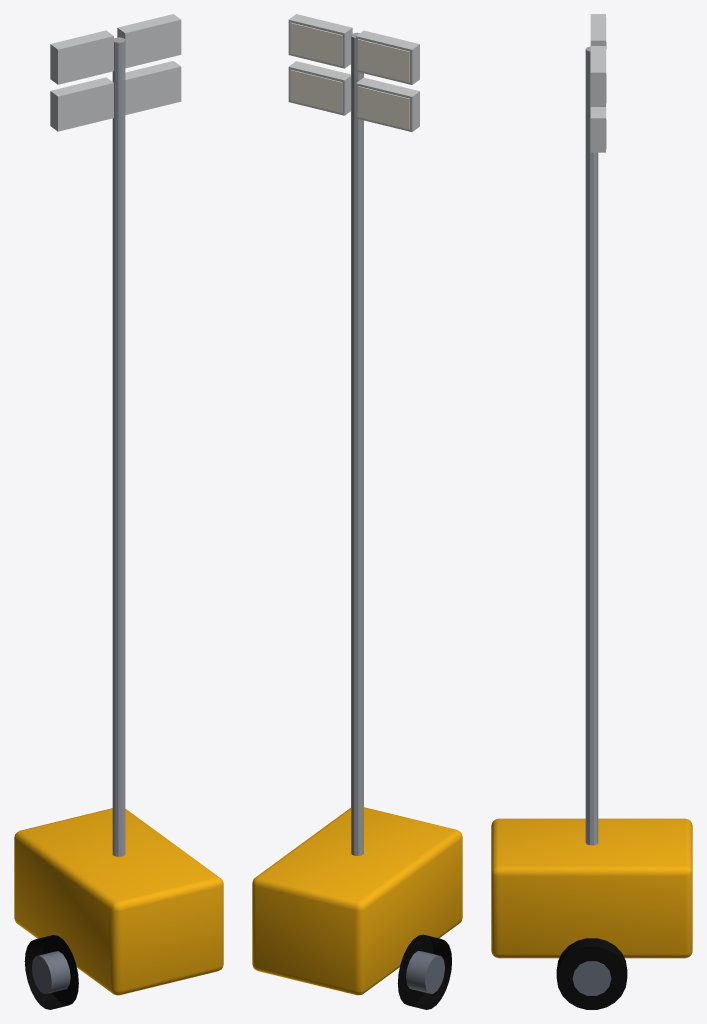
The model's file is plant.small.lighting_tower.glb.
3 views of the same model, side by side, from view 1: azimuth 30°, elevation 25°; view 2: azimuth 150°, elevation 25°; view 3: azimuth 270°, elevation 25° (orthographic). The views are drawn at different scales.
Parts seen in each view (by area): view 1: main__plant_yellow, main__steel_galvanised, main__aluminium, main__rubber, main__steel_painted; view 2: main__plant_yellow, main__steel_galvanised, main__light_emitter, main__aluminium, main__rubber, main__steel_painted; view 3: main__plant_yellow, main__steel_galvanised, main__rubber, main__aluminium, main__steel_painted.
Boxes of the visible parts, x1,y1,x2,y2 form: main__plant_yellow: (14, 808, 223, 995); main__steel_galvanised: (112, 37, 125, 856); main__aluminium: (50, 14, 181, 131); main__rubber: (24, 935, 78, 1009); main__steel_painted: (32, 951, 70, 993); main__plant_yellow: (252, 807, 462, 995); main__steel_galvanised: (351, 32, 363, 855); main__light_emitter: (290, 22, 409, 129); main__aluminium: (288, 14, 419, 131); main__rubber: (397, 934, 451, 1009); main__steel_painted: (406, 951, 444, 993); main__plant_yellow: (491, 818, 692, 958); main__steel_galvanised: (585, 46, 598, 845); main__rubber: (556, 938, 627, 1009); main__aluminium: (590, 14, 605, 152); main__steel_painted: (572, 961, 611, 995).
Bounding box in the file's own units: 1.38 × 8.15 × 1.6.
